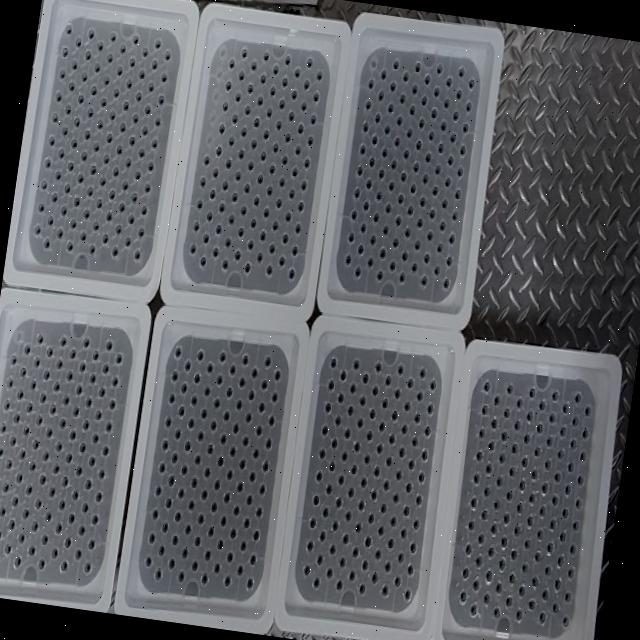pfs: (514, 608, 524, 626), (537, 611, 548, 627), (27, 459, 37, 475), (156, 94, 167, 108), (223, 409, 234, 423), (128, 55, 137, 72), (330, 518, 340, 533), (546, 541, 555, 557), (562, 614, 571, 630), (532, 572, 541, 588), (340, 450, 349, 466), (377, 522, 386, 538), (387, 539, 396, 555), (550, 602, 561, 615), (527, 599, 538, 612), (383, 561, 394, 574), (548, 411, 558, 425), (400, 423, 410, 437), (346, 404, 356, 418), (375, 444, 385, 458), (381, 584, 391, 598), (337, 474, 347, 488), (263, 355, 273, 369), (215, 375, 225, 389), (196, 430, 206, 444), (115, 352, 125, 366), (95, 491, 105, 505), (407, 374, 415, 391), (373, 464, 382, 479), (325, 566, 334, 581), (79, 441, 88, 456), (260, 379, 271, 391), (228, 445, 239, 457), (287, 186, 297, 199), (86, 187, 96, 200), (343, 429, 353, 442), (403, 590, 413, 603), (71, 489, 81, 502), (279, 253, 287, 269), (485, 568, 493, 584), (417, 115, 426, 129), (412, 161, 421, 175), (237, 147, 246, 161), (291, 164, 300, 178), (84, 50, 93, 64), (89, 164, 98, 178), (107, 189, 116, 203), (514, 417, 523, 431), (570, 542, 579, 556), (475, 553, 484, 567), (381, 396, 390, 410), (403, 399, 412, 413), (360, 477, 369, 491), (399, 445, 408, 459), (357, 499, 366, 513), (241, 354, 250, 368), (219, 433, 228, 447), (235, 400, 244, 414), (223, 491, 232, 505), (16, 389, 25, 403), (36, 414, 45, 428), (15, 471, 24, 485), (72, 404, 81, 418), (82, 418, 91, 432), (98, 467, 107, 481), (407, 203, 415, 218), (244, 100, 252, 115), (106, 54, 114, 69), (80, 72, 90, 84), (66, 163, 76, 175), (551, 391, 561, 403), (471, 602, 479, 617), (238, 378, 248, 390), (188, 498, 196, 513), (21, 425, 31, 437), (53, 461, 61, 476), (424, 72, 433, 85), (392, 236, 401, 249), (281, 74, 290, 87), (275, 118, 284, 131), (283, 210, 292, 223), (99, 98, 108, 111), (584, 405, 593, 418), (503, 407, 512, 420), (521, 456, 530, 469), (567, 460, 576, 473), (517, 502, 526, 515), (497, 559, 506, 572), (554, 578, 563, 591), (368, 408, 377, 421), (353, 441, 362, 454), (329, 544, 338, 557), (348, 569, 357, 582), (354, 521, 363, 534), (367, 512, 376, 525), (415, 494, 424, 507), (173, 347, 182, 360), (252, 447, 261, 460), (190, 476, 199, 489), (153, 484, 162, 497), (144, 556, 153, 569), (223, 576, 232, 589), (45, 347, 54, 360), (88, 373, 97, 386), (111, 376, 120, 389), (105, 420, 114, 433), (84, 479, 93, 492), (440, 118, 448, 132), (427, 229, 435, 243), (423, 251, 431, 265), (385, 199, 392, 215), (246, 82, 254, 96), (220, 258, 228, 272), (571, 414, 579, 428), (554, 469, 562, 483), (542, 483, 550, 497), (527, 514, 535, 528), (550, 517, 558, 531), (514, 523, 522, 537), (491, 522, 499, 536), (510, 547, 518, 561), (473, 575, 480, 591), (565, 590, 573, 604), (542, 587, 550, 601), (386, 372, 394, 386), (362, 371, 370, 385), (421, 448, 429, 462), (363, 455, 371, 469), (383, 478, 391, 492), (335, 578, 343, 592), (158, 462, 166, 476), (161, 520, 169, 534), (236, 564, 244, 578), (178, 571, 186, 585), (181, 547, 189, 561), (204, 548, 212, 562), (59, 335, 67, 349), (19, 447, 27, 461), (26, 483, 34, 497), (202, 387, 212, 398), (213, 479, 223, 490), (208, 503, 218, 514), (6, 377, 16, 388), (24, 404, 34, 415), (55, 441, 65, 452), (109, 32, 118, 44), (77, 96, 86, 108), (69, 139, 78, 151), (359, 395, 368, 407), (378, 422, 387, 434), (352, 545, 361, 557), (379, 502, 388, 514), (361, 559, 370, 571), (216, 455, 225, 467), (213, 563, 222, 575), (36, 332, 45, 344), (39, 392, 48, 404), (4, 458, 13, 470), (102, 445, 111, 457), (251, 57, 258, 72), (241, 44, 248, 59), (493, 605, 500, 620), (357, 417, 364, 432), (445, 75, 453, 88), (450, 131, 458, 144), (434, 164, 442, 177), (415, 137, 423, 150), (383, 122, 391, 135), (449, 231, 457, 244), (430, 206, 438, 219), (409, 181, 417, 194), (367, 257, 375, 270), (354, 266, 362, 279), (370, 233, 378, 246), (269, 84, 277, 97), (304, 77, 312, 90), (301, 99, 309, 112), (247, 238, 255, 251), (234, 170, 242, 183), (142, 44, 150, 57), (132, 31, 140, 44), (164, 49, 172, 62), (55, 91, 63, 104), (539, 399, 547, 412), (491, 416, 499, 429), (527, 410, 535, 423), (486, 462, 494, 475), (528, 492, 536, 505), (481, 508, 489, 521), (537, 527, 545, 540), (477, 532, 485, 545), (488, 546, 496, 559), (501, 537, 509, 550), (556, 554, 564, 567), (419, 366, 427, 379), (429, 379, 437, 392), (375, 360, 383, 373), (353, 357, 361, 370), (391, 411, 399, 424), (315, 471, 323, 484), (309, 517, 317, 530), (347, 487, 355, 500), (371, 488, 379, 501), (344, 509, 352, 522), (418, 472, 426, 485), (371, 572, 379, 585), (407, 564, 415, 577), (410, 542, 418, 555), (399, 528, 407, 541), (251, 367, 259, 380), (229, 364, 237, 377), (167, 393, 175, 406), (213, 397, 221, 410), (232, 424, 240, 437), (255, 425, 263, 438), (193, 454, 201, 467), (207, 443, 215, 456), (154, 568, 162, 581), (168, 557, 176, 570), (226, 468, 234, 481), (249, 471, 257, 484), (253, 529, 261, 542), (236, 480, 244, 493), (233, 504, 241, 517), (200, 573, 208, 586), (184, 524, 192, 537), (66, 370, 74, 383), (42, 369, 50, 382), (30, 378, 38, 391), (62, 396, 70, 409), (11, 495, 19, 508), (32, 438, 40, 451), (399, 270, 408, 281), (296, 123, 305, 134), (281, 234, 290, 245), (259, 151, 268, 162), (86, 29, 95, 40), (64, 24, 73, 35), (123, 101, 132, 112), (74, 116, 83, 127), (43, 158, 52, 169), (39, 180, 48, 191), (35, 204, 44, 215), (569, 438, 578, 449), (544, 459, 553, 470), (539, 505, 548, 516), (561, 508, 570, 519), (560, 530, 569, 541), (534, 551, 543, 562), (306, 541, 315, 552), (392, 493, 401, 504), (390, 517, 399, 528), (364, 536, 373, 547), (225, 388, 234, 399), (74, 466, 83, 477), (453, 109, 460, 123), (380, 245, 387, 259), (307, 55, 314, 69), (225, 79, 232, 93), (259, 228, 266, 242), (240, 203, 247, 217), (218, 200, 225, 214), (65, 103, 72, 117), (161, 70, 168, 84), (119, 124, 126, 138), (552, 493, 559, 507), (471, 497, 478, 511), (465, 543, 472, 557), (460, 591, 467, 605), (506, 595, 513, 609), (509, 571, 516, 585), (313, 577, 320, 591), (375, 548, 382, 562), (359, 583, 366, 597), (319, 447, 326, 461), (181, 463, 188, 477), (240, 540, 247, 554), (0, 422, 7, 436), (0, 506, 7, 520), (62, 475, 69, 489), (389, 80, 397, 92), (460, 143, 468, 155), (457, 167, 465, 179), (443, 278, 451, 290), (419, 195, 427, 207), (404, 226, 412, 238), (402, 250, 410, 262), (398, 192, 406, 204), (378, 167, 386, 179), (383, 223, 391, 235), (253, 116, 261, 128), (244, 261, 252, 273), (119, 42, 127, 54), (138, 69, 146, 81), (68, 79, 76, 91), (47, 136, 55, 148), (148, 161, 156, 173), (481, 403, 489, 415), (572, 520, 580, 532), (424, 426, 432, 438), (365, 431, 373, 443), (322, 507, 330, 519), (335, 498, 343, 510), (394, 577, 402, 589), (397, 553, 405, 565), (200, 410, 208, 422), (258, 403, 266, 415), (242, 436, 250, 448), (204, 466, 212, 478), (243, 518, 251, 530), (246, 494, 254, 506), (194, 536, 202, 548), (197, 514, 205, 526), (220, 515, 228, 527), (217, 539, 225, 551), (19, 367, 27, 379), (59, 417, 67, 429), (2, 482, 10, 494), (65, 453, 73, 465), (39, 474, 47, 486), (415, 60, 422, 73), (394, 57, 401, 70), (466, 100, 473, 113), (463, 120, 470, 133), (431, 106, 438, 119), (437, 140, 444, 153), (387, 102, 394, 115), (389, 260, 396, 273), (294, 65, 301, 78), (263, 49, 270, 62), (260, 71, 267, 84), (278, 96, 285, 109), (267, 105, 274, 118), (251, 137, 258, 150), (272, 219, 279, 232), (257, 173, 264, 186), (234, 249, 241, 262), (75, 36, 82, 49), (97, 117, 104, 130), (113, 168, 120, 181), (507, 383, 514, 396), (494, 392, 501, 405), (501, 431, 508, 444), (489, 438, 496, 451), (520, 478, 527, 491), (462, 567, 469, 580), (484, 592, 491, 605), (497, 581, 504, 594), (519, 584, 526, 597), (568, 567, 575, 580), (372, 384, 379, 397), (394, 387, 401, 400), (427, 403, 434, 416), (414, 412, 421, 425), (303, 565, 310, 578), (413, 518, 420, 531), (184, 442, 191, 455), (230, 528, 237, 541), (92, 351, 102, 360), (399, 93, 407, 104), (444, 97, 452, 108), (468, 78, 476, 89), (447, 155, 455, 166), (405, 127, 413, 138), (432, 184, 440, 195), (381, 146, 389, 157), (375, 191, 383, 202), (272, 64, 280, 75), (212, 166, 220, 177), (225, 157, 233, 168), (263, 129, 271, 140), (263, 207, 271, 218), (266, 185, 274, 196), (269, 163, 277, 174), (244, 182, 252, 193), (189, 243, 197, 254), (225, 237, 233, 248), (151, 60, 159, 71), (126, 79, 134, 90), (132, 113, 140, 124), (92, 145, 100, 156), (117, 144, 125, 155), (101, 235, 109, 246), (79, 230, 87, 241), (66, 241, 74, 252), (574, 392, 582, 403), (557, 448, 565, 459), (546, 437, 554, 448), (524, 432, 532, 443), (506, 489, 514, 500), (484, 486, 492, 497), (473, 473, 481, 484), (503, 513, 511, 524), (349, 383, 357, 394), (411, 436, 419, 447), (334, 416, 342, 427), (325, 484, 333, 495), (312, 495, 320, 506), (350, 465, 358, 476), (395, 469, 403, 480), (339, 557, 347, 568), (219, 351, 227, 362), (197, 350, 205, 361), (164, 417, 172, 428), (174, 429, 182, 440), (148, 534, 156, 545), (239, 458, 247, 469), (207, 527, 215, 538), (69, 348, 77, 359), (13, 413, 21, 424), (75, 384, 83, 395), (110, 400, 118, 411), (86, 397, 94, 408), (69, 430, 77, 441), (92, 433, 100, 444), (7, 519, 15, 530), (458, 65, 465, 77), (412, 81, 418, 95), (456, 87, 463, 99), (397, 114, 404, 126), (375, 111, 382, 123), (421, 275, 428, 287), (372, 133, 379, 145), (284, 54, 291, 66), (273, 141, 280, 153), (257, 252, 264, 264), (279, 175, 286, 187), (202, 233, 209, 245), (200, 255, 207, 267), (51, 112, 58, 124), (131, 192, 138, 204), (134, 250, 141, 262), (112, 247, 119, 259), (70, 219, 77, 231), (516, 397, 523, 409), (512, 443, 519, 455), (476, 449, 483, 461), (493, 500, 500, 512), (340, 370, 347, 382), (325, 403, 332, 415), (316, 555, 323, 567), (403, 505, 410, 517), (180, 383, 187, 395), (178, 405, 185, 417), (162, 440, 169, 452), (266, 437, 272, 451), (158, 544, 165, 556), (262, 461, 269, 473), (24, 343, 31, 355), (34, 358, 41, 370), (103, 78, 112, 87), (420, 95, 428, 105), (366, 177, 372, 190), (241, 124, 247, 137), (403, 71, 410, 82), (381, 68, 388, 79), (365, 99, 372, 110), (378, 90, 385, 101), (455, 187, 462, 198), (403, 149, 410, 160), (394, 134, 401, 145), (436, 242, 443, 253), (417, 217, 424, 228), (395, 216, 402, 227), (391, 158, 398, 169), (359, 143, 366, 154), (389, 180, 396, 191), (377, 269, 384, 280), (357, 244, 364, 255), (345, 254, 352, 265), (348, 232, 355, 243), (360, 222, 367, 233), (373, 211, 380, 222), (354, 188, 361, 199), (351, 210, 358, 221), (228, 58, 235, 69), (238, 70, 245, 81), (219, 123, 226, 134), (222, 101, 229, 112), (257, 95, 264, 106), (291, 89, 298, 100), (313, 92, 320, 103), (310, 114, 317, 125), (307, 135, 314, 146), (288, 110, 295, 121), (203, 154, 210, 165), (285, 132, 292, 143), (296, 145, 303, 156), (304, 157, 311, 168), (291, 246, 298, 257), (288, 268, 295, 279), (269, 243, 276, 254), (266, 265, 273, 276), (248, 160, 255, 171), (253, 194, 260, 205), (250, 218, 257, 229), (231, 191, 238, 202), (196, 199, 203, 210), (215, 224, 222, 235), (193, 221, 200, 232), (212, 246, 219, 257), (155, 38, 162, 49), (117, 66, 124, 77), (97, 41, 104, 52), (91, 85, 98, 96), (129, 135, 136, 146), (84, 128, 91, 139), (138, 149, 145, 160), (134, 171, 141, 182), (77, 174, 84, 185), (64, 183, 71, 194), (138, 227, 145, 238), (128, 214, 135, 225), (84, 210, 91, 221), (57, 229, 64, 240), (562, 404, 569, 415), (529, 388, 536, 399), (483, 382, 490, 393), (535, 446, 542, 457), (478, 428, 485, 439), (499, 453, 506, 464), (509, 465, 516, 476), (577, 475, 584, 486), (566, 484, 573, 495), (496, 477, 503, 488), (575, 499, 582, 510), (524, 538, 531, 549), (521, 562, 528, 573), (331, 438, 338, 449), (329, 462, 336, 473), (386, 457, 393, 468), (342, 533, 349, 544), (406, 482, 413, 493), (408, 460, 415, 471), (274, 370, 281, 381), (271, 392, 278, 403), (207, 363, 214, 374), (184, 360, 191, 371), (171, 371, 178, 382), (191, 396, 198, 407), (188, 418, 195, 429), (210, 421, 217, 432), (245, 413, 252, 424), (248, 391, 255, 402), (165, 499, 172, 510), (178, 487, 185, 498), (168, 475, 175, 486), (171, 535, 178, 546), (175, 511, 182, 522), (259, 483, 266, 494), (249, 555, 256, 566), (247, 579, 254, 590), (227, 552, 234, 563), (105, 340, 112, 351), (83, 337, 90, 348), (56, 359, 63, 370), (53, 381, 60, 392), (3, 403, 10, 414), (10, 435, 17, 446), (89, 457, 96, 468), (35, 498, 42, 509), (440, 220, 446, 232), (401, 170, 407, 182), (357, 164, 363, 176), (232, 113, 238, 125), (107, 133, 113, 145), (125, 158, 133, 167), (118, 204, 126, 213), (105, 213, 113, 222), (60, 207, 68, 216), (33, 225, 41, 234), (532, 468, 538, 480), (545, 565, 551, 577), (322, 425, 328, 437), (320, 531, 326, 543), (79, 362, 85, 374), (61, 49, 68, 59), (46, 428, 53, 438), (437, 63, 443, 74), (434, 86, 440, 97), (445, 177, 451, 188), (410, 103, 416, 114), (415, 239, 421, 250), (363, 121, 369, 132), (364, 201, 370, 212), (235, 92, 241, 103), (317, 70, 323, 81), (298, 201, 304, 212), (295, 222, 301, 233), (276, 197, 282, 208), (210, 188, 216, 199), (207, 210, 213, 221), (229, 213, 235, 224), (238, 227, 244, 238), (72, 60, 78, 71), (95, 63, 101, 74), (136, 91, 142, 102), (110, 112, 116, 123), (88, 107, 94, 118), (103, 155, 109, 166), (52, 192, 58, 203), (116, 226, 122, 237), (96, 199, 102, 210), (89, 246, 95, 257), (536, 423, 542, 434), (560, 426, 566, 437), (583, 429, 589, 440), (580, 451, 586, 462), (398, 365, 404, 376), (417, 390, 423, 401), (328, 380, 334, 391), (389, 435, 395, 446), (172, 453, 178, 464), (269, 416, 275, 427), (256, 507, 262, 518), (192, 560, 198, 571), (11, 355, 17, 366), (103, 364, 109, 375), (50, 405, 56, 416), (99, 387, 105, 398), (96, 409, 102, 420), (43, 451, 49, 462), (368, 79, 375, 88), (442, 198, 449, 207), (281, 156, 288, 165), (222, 181, 229, 190), (113, 88, 120, 97), (148, 84, 155, 93), (151, 140, 158, 149), (154, 118, 161, 127), (62, 127, 69, 136), (58, 149, 65, 158), (145, 183, 152, 192), (99, 177, 106, 186), (141, 205, 148, 214), (93, 223, 100, 232), (43, 240, 50, 249), (47, 216, 54, 225), (194, 374, 201, 383), (59, 71, 65, 81), (145, 105, 151, 115), (74, 197, 80, 207), (202, 490, 207, 502), (426, 152, 431, 163), (423, 174, 428, 185), (229, 135, 234, 146), (123, 180, 128, 191), (429, 130, 435, 139), (453, 211, 459, 220), (447, 257, 453, 266), (434, 266, 440, 275), (369, 157, 375, 166), (216, 147, 222, 156), (301, 181, 307, 190), (200, 178, 206, 187), (142, 127, 148, 136), (81, 152, 87, 161), (55, 171, 61, 180), (125, 238, 131, 247), (469, 521, 475, 530), (338, 394, 344, 403), (152, 510, 158, 519), (0, 446, 4, 458), (412, 263, 417, 272), (0, 528, 2, 540)
